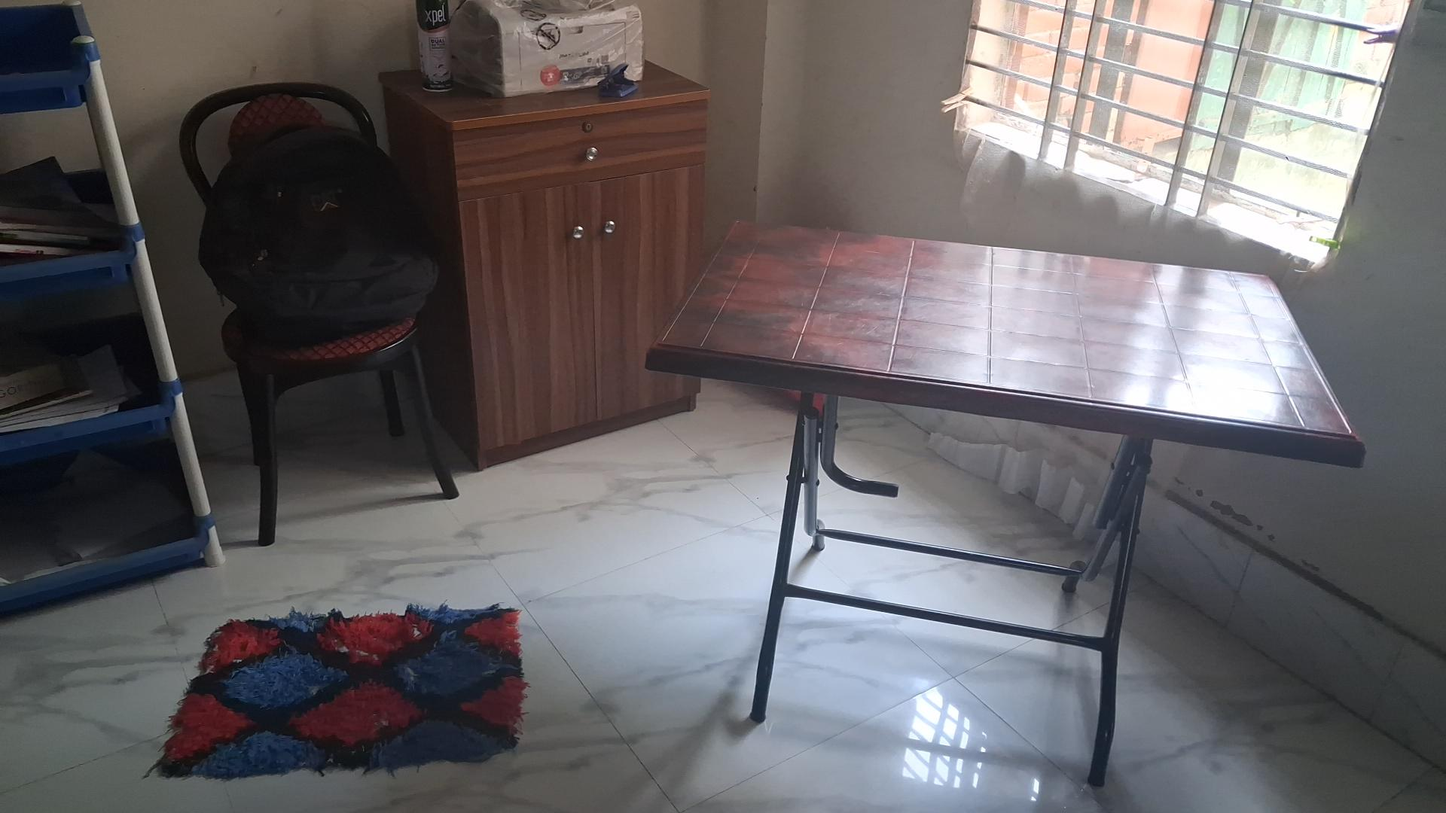Bag: (207, 121, 431, 342)
Chair: (179, 92, 462, 560)
Floor Mat: (153, 606, 526, 780)
Rack: (1, 5, 226, 617)
Table: (647, 217, 1363, 780)
